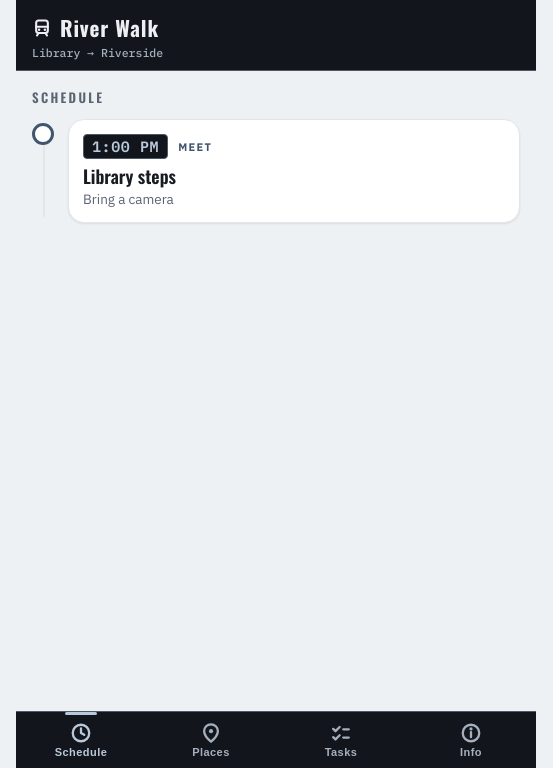
Test: renders the resolved scavenger checklist
Expected: the element with test id "view-schedule" is shown, [32,119,520,223]
Click the button "Tasks".
click(341, 740)  # box [276,712,406,767]
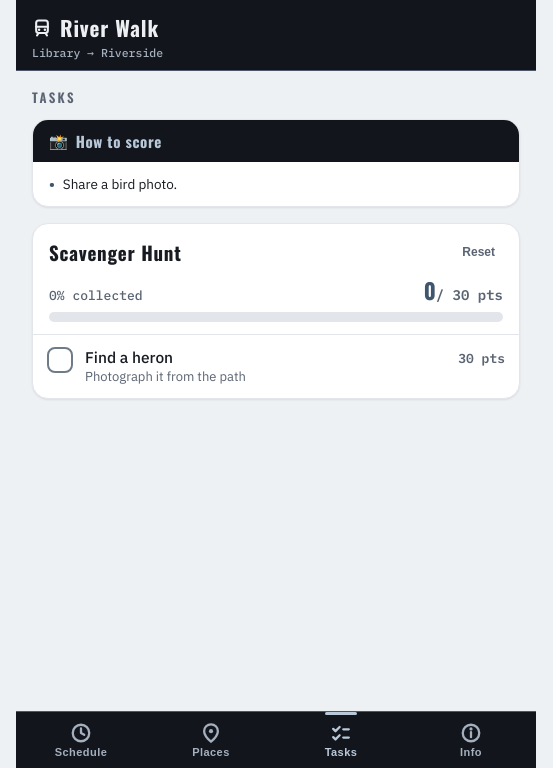
Now the checkbox labelled "Find a heron Photograph it from the path 30 pts" is shown, box [33,335,519,398]
Now the text "30 pts" is shown, box [458,350,505,367]
Now the text "Share a bird photo." is shown, box [63,174,177,194]
